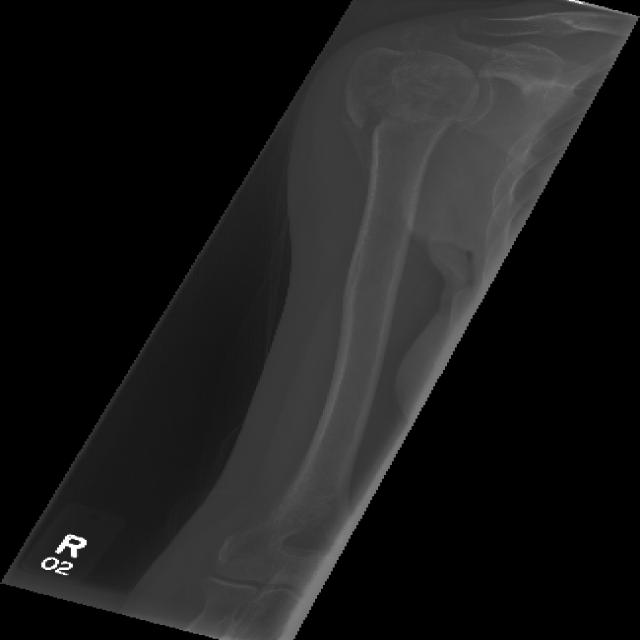humerus fracture: (325, 94, 472, 148)
